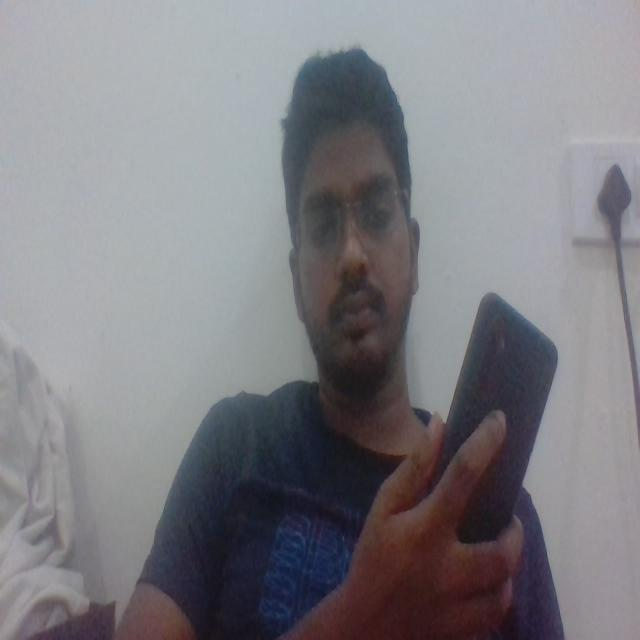Phone: (428, 289, 562, 542)
